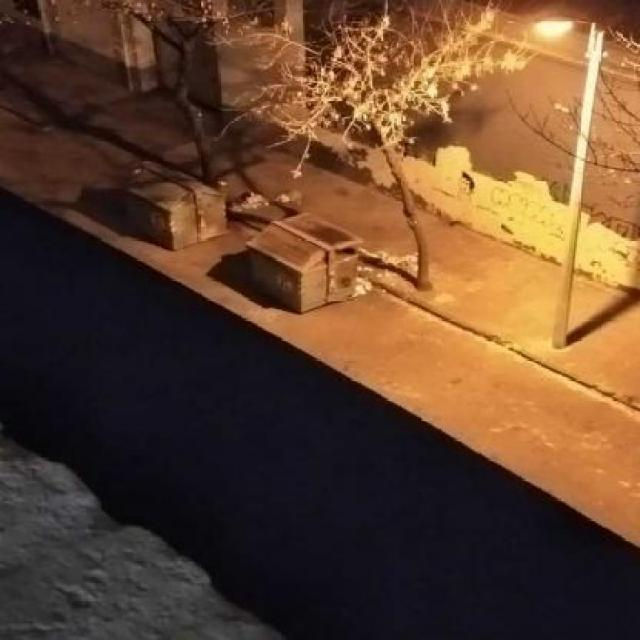garbage: (357, 242, 417, 300), (228, 185, 308, 222)
